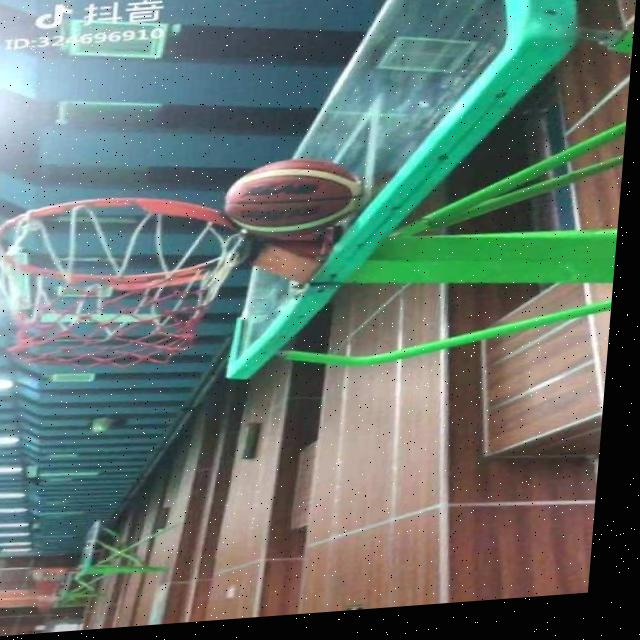rebound_hit: (219, 155, 362, 243)
